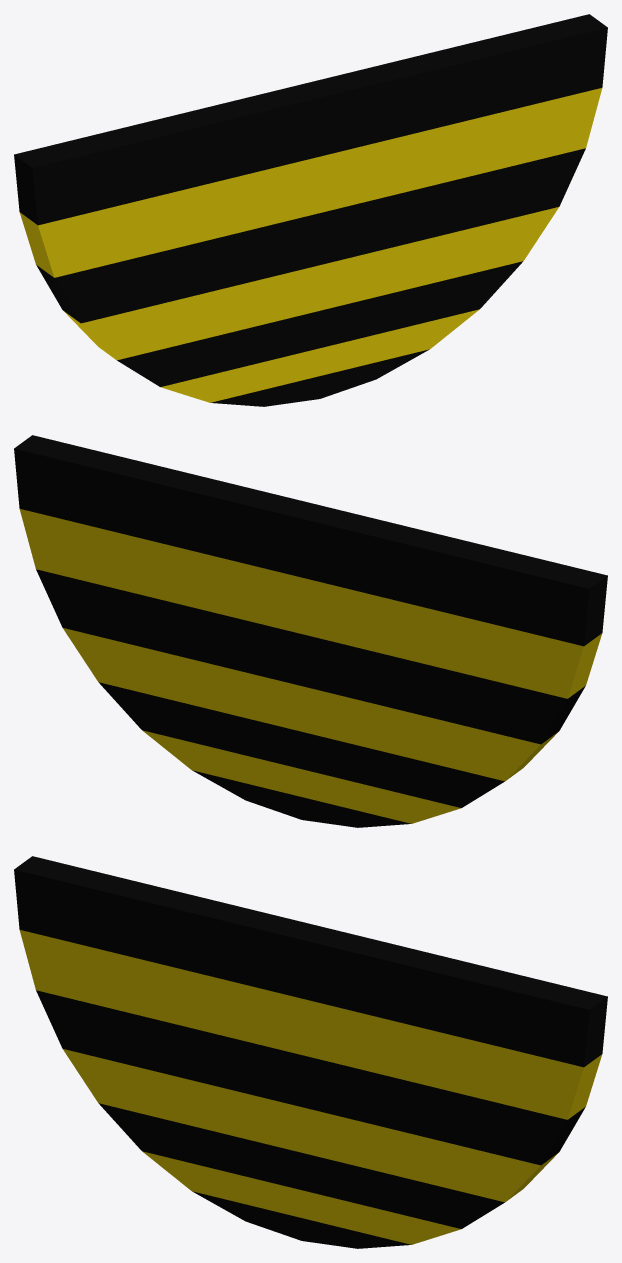
File: TunnelBlockade.fbx
3 views of the same model, one above another, from view 1: azimuth 30°, elevation 25°; view 2: azimuth 150°, elevation 25°; view 3: azimuth 330°, elevation 25° (orthographic).
Parts seen in each view (by area): view 1: Cylinder.001; view 2: Cylinder.001; view 3: Cylinder.001.
Part boxes in pixels (left/top/right/bottom): Cylinder.001: left=14, top=14, right=607, bottom=406; Cylinder.001: left=14, top=435, right=607, bottom=827; Cylinder.001: left=14, top=856, right=607, bottom=1248.
Size of the model in its own units: 1548 by 774 by 85.95.
